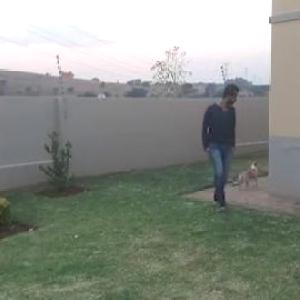follow: (204, 77, 244, 216)
